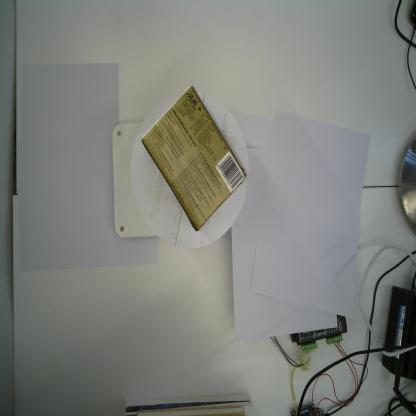Tissue: (139, 84, 249, 233)
